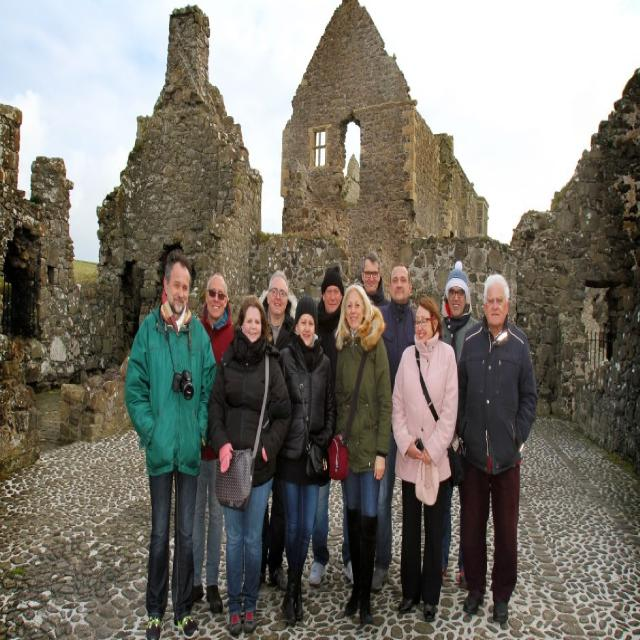body: (120, 246, 216, 639), (206, 288, 294, 639), (456, 272, 536, 626), (384, 286, 461, 623), (327, 278, 394, 630), (276, 296, 336, 627), (306, 260, 356, 590), (190, 270, 236, 616), (369, 261, 416, 592), (438, 260, 481, 591), (258, 266, 299, 593), (354, 250, 392, 307)
